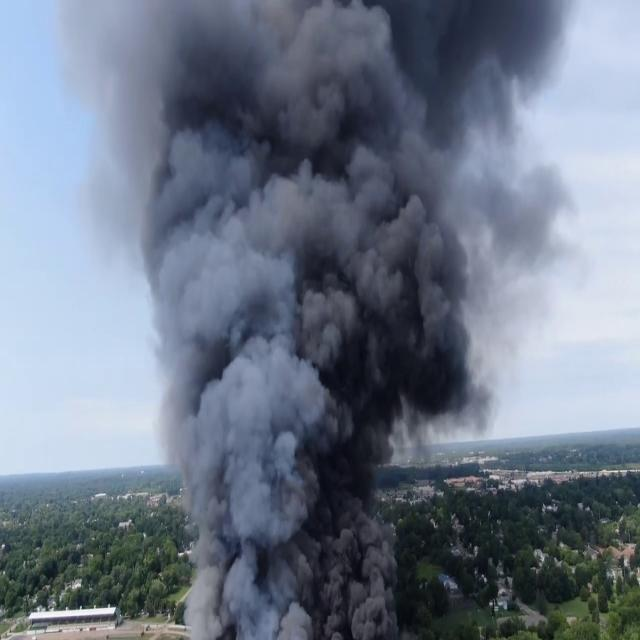Smoke: (81, 0, 560, 637)
